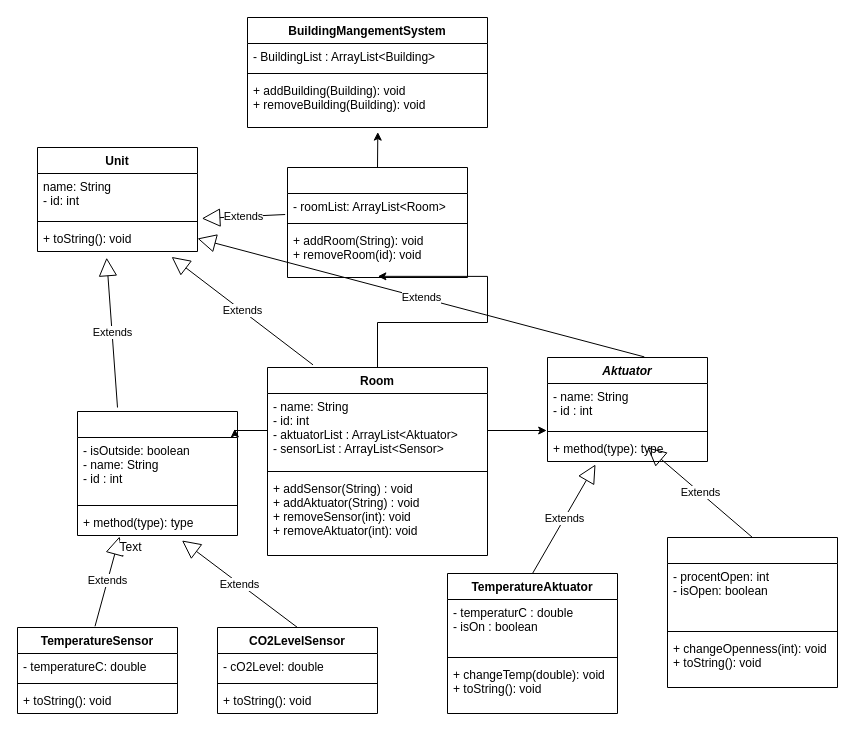
The diagram is 855 pixels wide and 734 high, and some of its shapes have lost their labels. The shapes that lost their labels are listed below. From the top down, each one's box as (x1, y1, x2, y2) in pixels, then its label:
(286, 166, 468, 278): Building
(76, 410, 238, 536): Sensor
(666, 536, 838, 688): VentilatorAktuator
